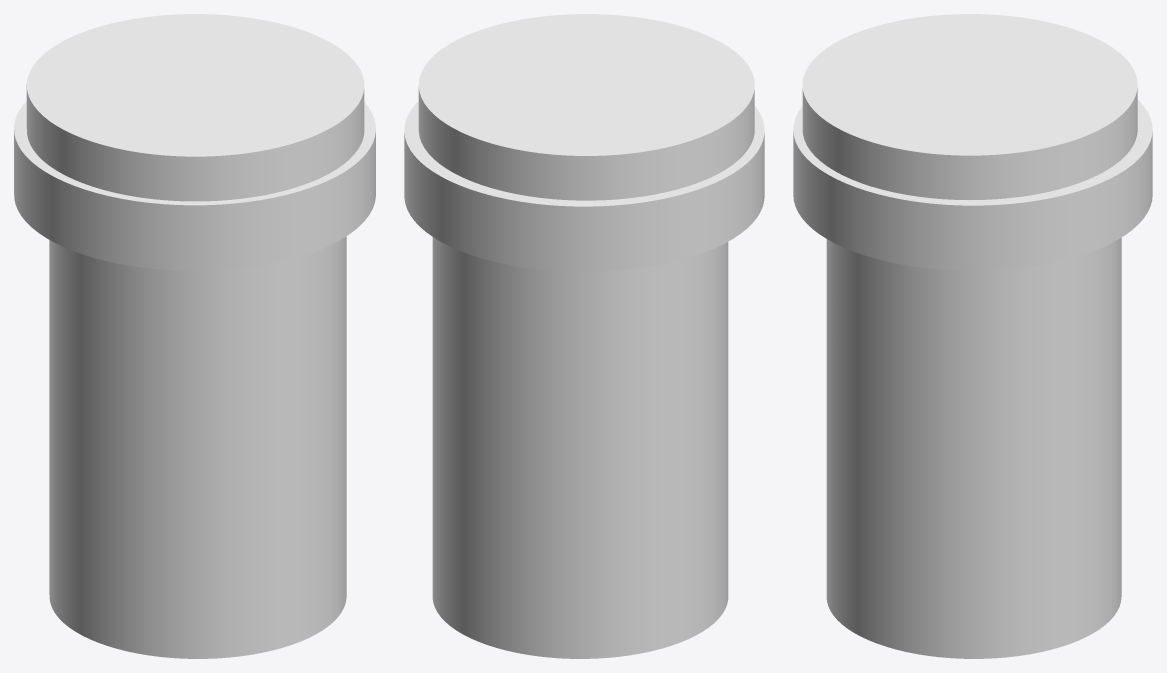
The model's file is pillBottle.fbx.
The picture shows the model from 3 angles, left to right: view 1: azimuth 30°, elevation 25°; view 2: azimuth 150°, elevation 25°; view 3: azimuth 270°, elevation 25°; orthographic projection.
Visible parts, largest first — view 1: Node #2, Node #1, Node #0; view 2: Node #2, Node #1, Node #0; view 3: Node #2, Node #1, Node #0.
Part boxes in pixels (box(x1,y1,x2,y2)): Node #2: box(49, 236, 346, 658); Node #1: box(26, 14, 364, 201); Node #0: box(14, 101, 375, 270); Node #2: box(432, 237, 728, 658); Node #1: box(418, 14, 754, 200); Node #0: box(404, 101, 764, 271); Node #2: box(826, 237, 1121, 658); Node #1: box(802, 14, 1137, 200); Node #0: box(793, 100, 1152, 270).
Bounding box in the file's own units: 0.2514 × 0.3934 × 0.2514.
1 material, 1 textured.
